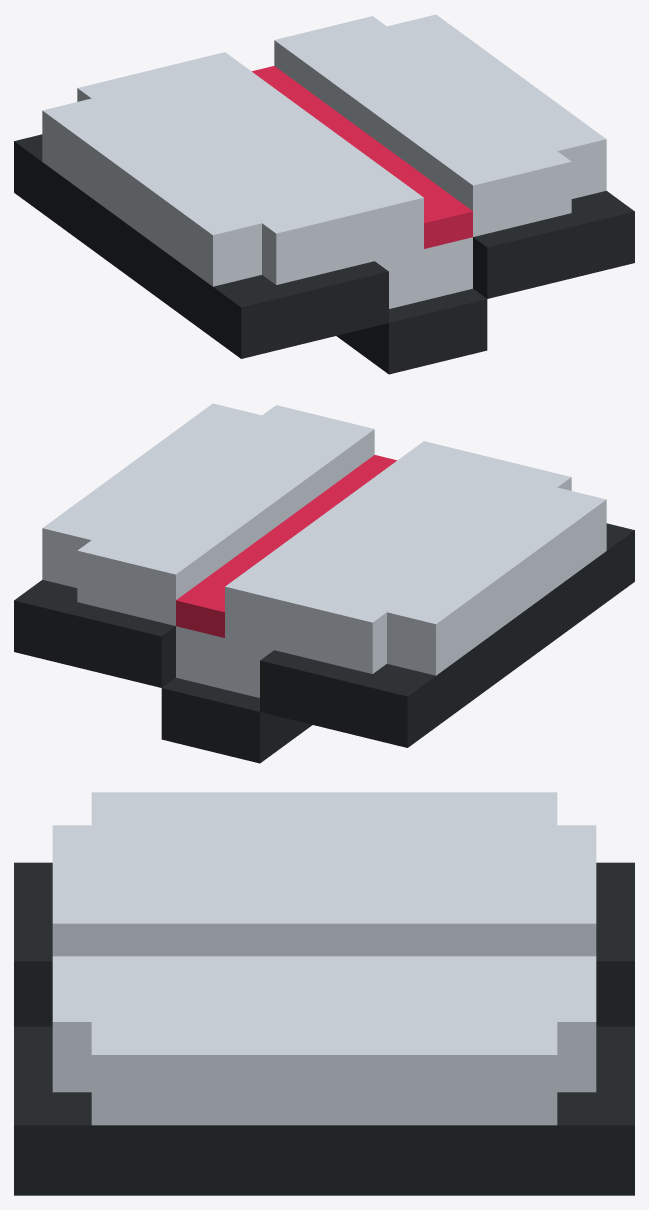
Rendered from ritual-book.glb.
The picture shows the model from 3 angles, top to bottom: view 1: azimuth 30°, elevation 25°; view 2: azimuth 150°, elevation 25°; view 3: azimuth 270°, elevation 25°; orthographic projection. The views are drawn at different scales.
Parts seen in each view (by area): view 1: generated(Clone); view 2: generated(Clone); view 3: generated(Clone).
Boxes of the visible parts, bbox=[...] form: generated(Clone): bbox=[14, 14, 634, 374]; generated(Clone): bbox=[14, 403, 634, 763]; generated(Clone): bbox=[14, 792, 634, 1195].
Size of the model in its own units: 8 by 3 by 8.
Materials: 1 (1 with a texture image).
